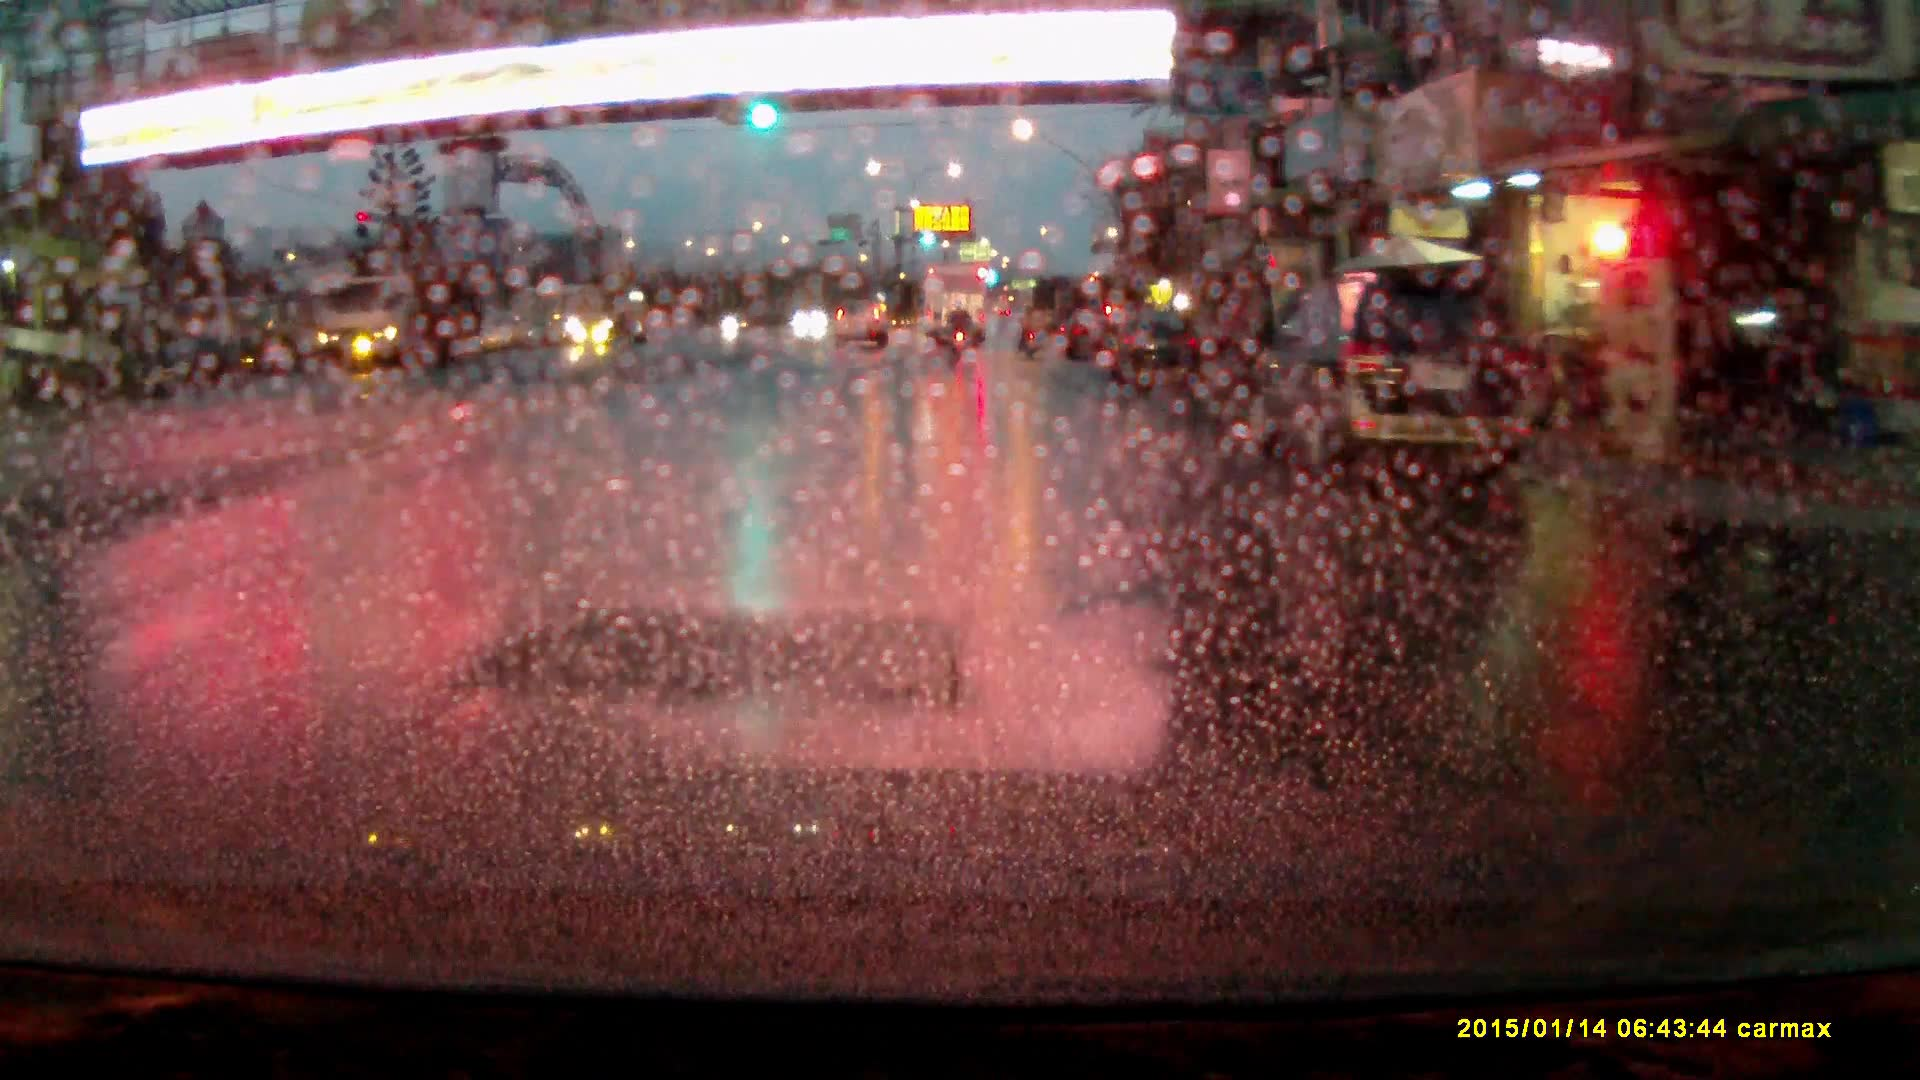rider: (948, 297, 974, 356)
vehicle: (1244, 264, 1546, 481), (1680, 288, 1832, 436), (311, 274, 472, 375), (1106, 308, 1203, 388), (564, 289, 658, 348), (922, 267, 991, 344), (1062, 308, 1128, 364), (833, 280, 890, 329)
